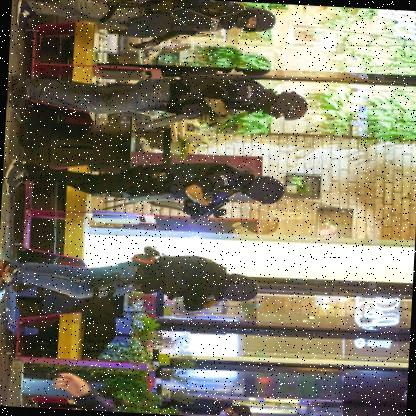rifle: (184, 185, 238, 227), (102, 0, 140, 12)
